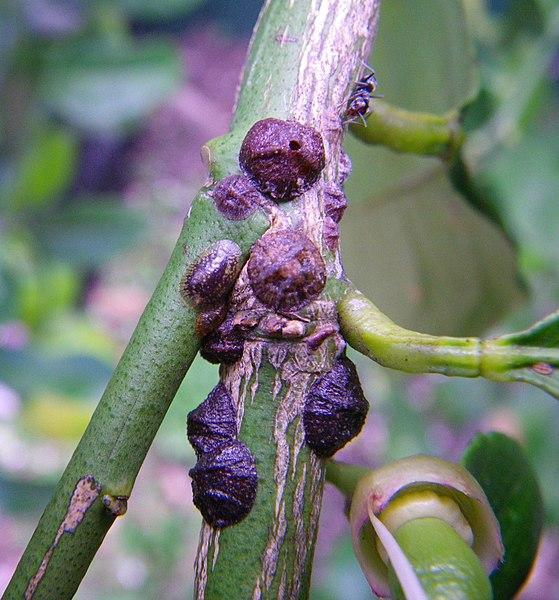BlackScale: (176, 108, 344, 370), (174, 374, 264, 534), (296, 352, 378, 456), (334, 64, 395, 129)
